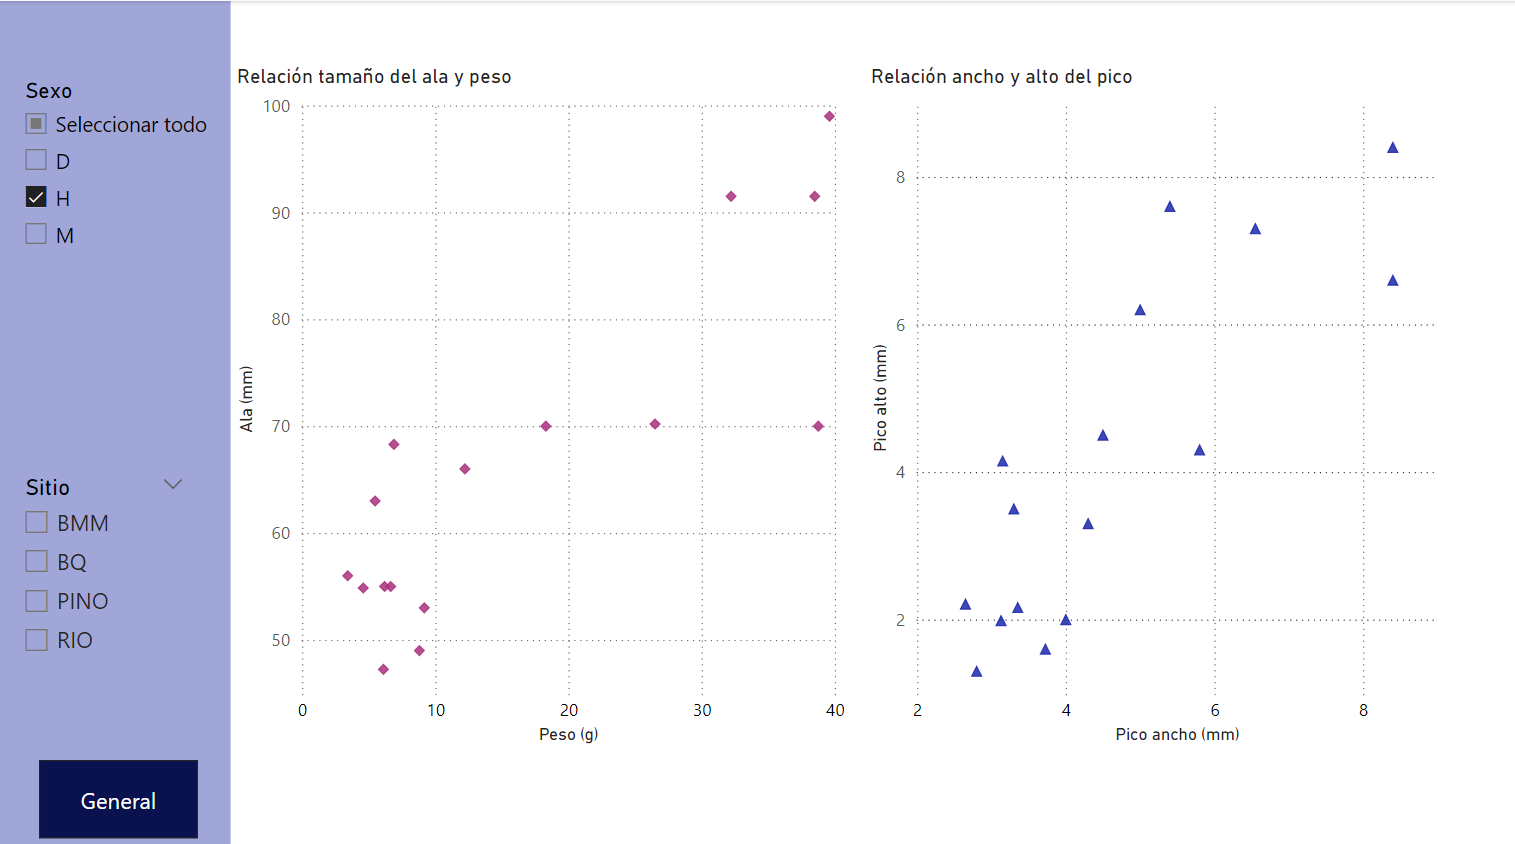

What the dashboard file says about the page in this screenshot:
{"tool":"powerbi","page":{"name":"Relaciones medidas","canvas":[1280,720],"ordinal":1},"visuals":[{"type":"shape","box":[0,0,196.3,719.8],"z":0},{"type":"scatterChart","title":"Relación tamaño  del ala y peso","fields":{"X":["Avg(datosaves3.pesogr)"],"Y":["Avg(datosaves3.alamm)"],"Category":["datosaves3.especie"]},"box":[196.1,52.8,522.1,577.6],"z":1000},{"type":"slicer","fields":{"Values":["datosaves3.sexo"]},"box":[10.5,60.2,174.1,171.5],"z":2000},{"type":"scatterChart","title":"Relación ancho y alto del pico","fields":{"X":["Avg(datosaves3.picoanchomm)"],"Y":["Avg(datosaves3.picoaltomm)"],"Category":["datosaves3.especie"]},"box":[730.7,52.8,491.6,577.6],"z":3000},{"type":"slicer","fields":{"Values":["datosaves3.site"]},"box":[10.5,393.9,158.4,204.2],"z":4000},{"type":"pageNavigator","box":[35,639.5,134.1,66.1],"z":5000}]}

Visuals, with their boxes on the page's 1280x720 design canvas (x1, y1, x2, y2). These are canvas units, not pixel positions in the 1515x844 screenshot, which may show the page scaled, cropped or inside an application window:
shape: detection(0, 0, 196, 720)
"Relación tamaño  del ala y peso" scatterChart: detection(196, 53, 718, 630)
slicer - datosaves3.sexo: detection(10, 60, 185, 232)
"Relación ancho y alto del pico" scatterChart: detection(731, 53, 1222, 630)
slicer - datosaves3.site: detection(10, 394, 169, 598)
pageNavigator: detection(35, 640, 169, 706)
